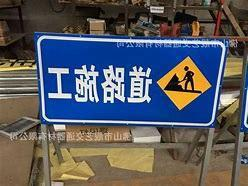sign: (36, 35, 226, 126)
